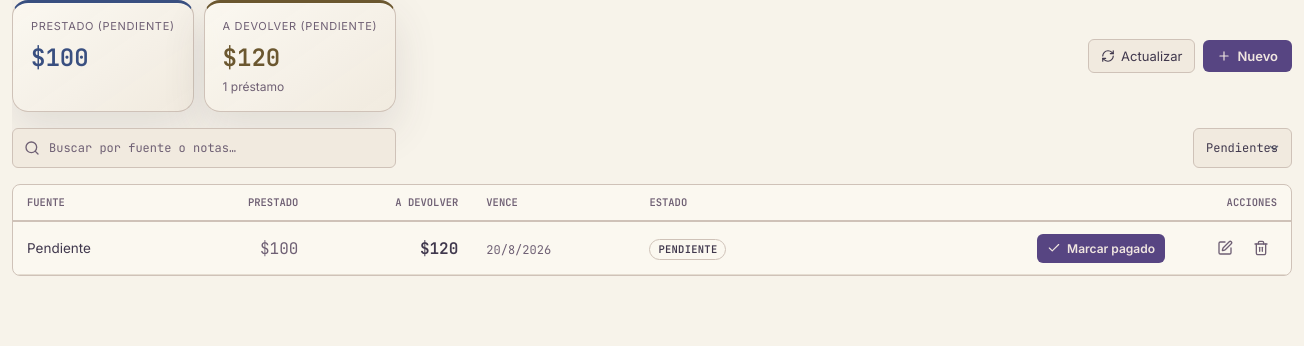
Test: ModernPrestamosSection server filters › defaults to Pending, supports Paid and All, and keeps Pending KPIs while browsing history
The width and height of the screenshot is (1304, 346).
Check: the text "Pendiente" is shown, box [13,221,175,275]
Select "Pagados" in the dropdown named "filtrar préstamos por estado" at (1242,148), box [1193,128,1292,168]
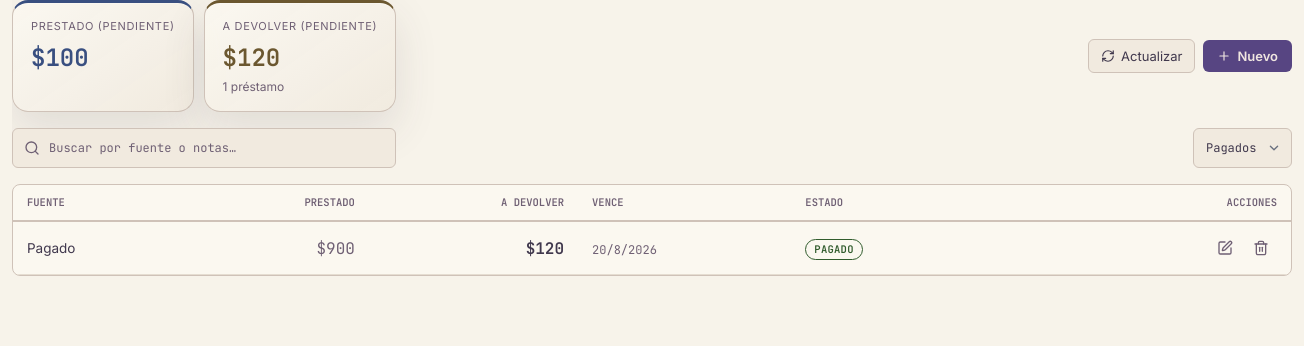
Check: the text "$100" is shown, box [31,42,89,73]
Check: the text "Pagado" is shown, box [13,221,189,275]
Select "Todos" in the dropdown named "filtrar préstamos por estado" at (1242,148), box [1193,128,1292,168]
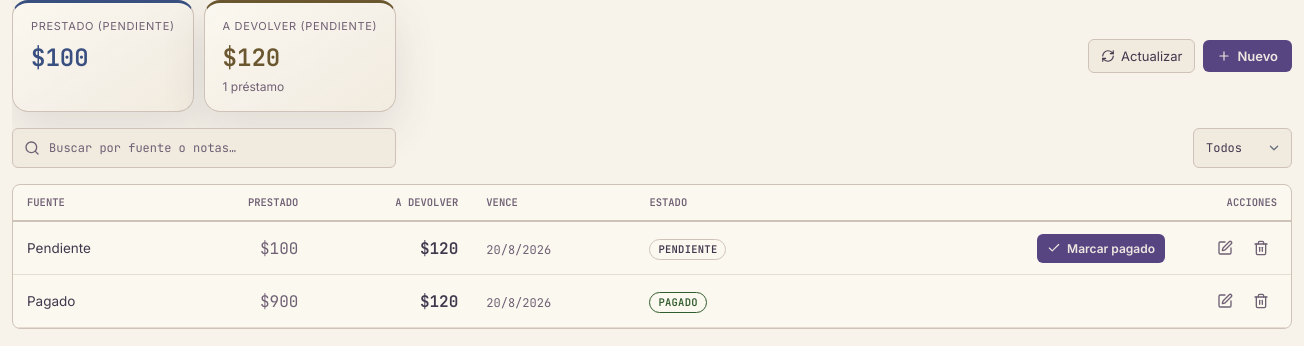
Check: the text "Pagado" is shown, box [13,275,175,328]
Check: the text "Pendiente" is shown, box [13,221,175,275]
